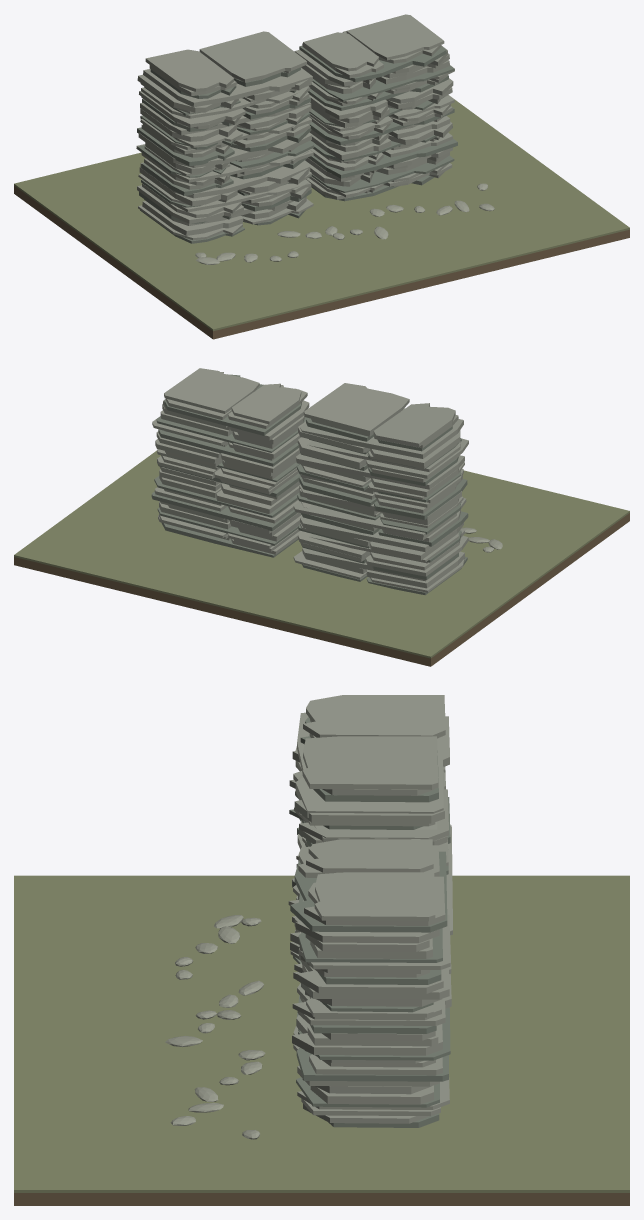
File: gms-20.glb
3 views of the same model, one above another, from view 1: azimuth 30°, elevation 25°; view 2: azimuth 150°, elevation 25°; view 3: azimuth 270°, elevation 25° (orthographic). The views are drawn at different scales.
Parts seen in each view (by area): view 1: GMS-20 - estudio del paisaje; view 2: GMS-20 - estudio del paisaje; view 3: GMS-20 - estudio del paisaje.
Boxes of the visible parts, x1,y1,x2,y2 form: GMS-20 - estudio del paisaje: [14, 14, 629, 339]; GMS-20 - estudio del paisaje: [14, 368, 629, 666]; GMS-20 - estudio del paisaje: [14, 695, 629, 1205].
Bounding box in the file's own units: 11.6 × 4.31 × 9.6.
